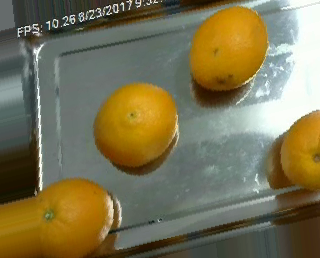Orange: (90, 82, 177, 164), (189, 6, 269, 90)
